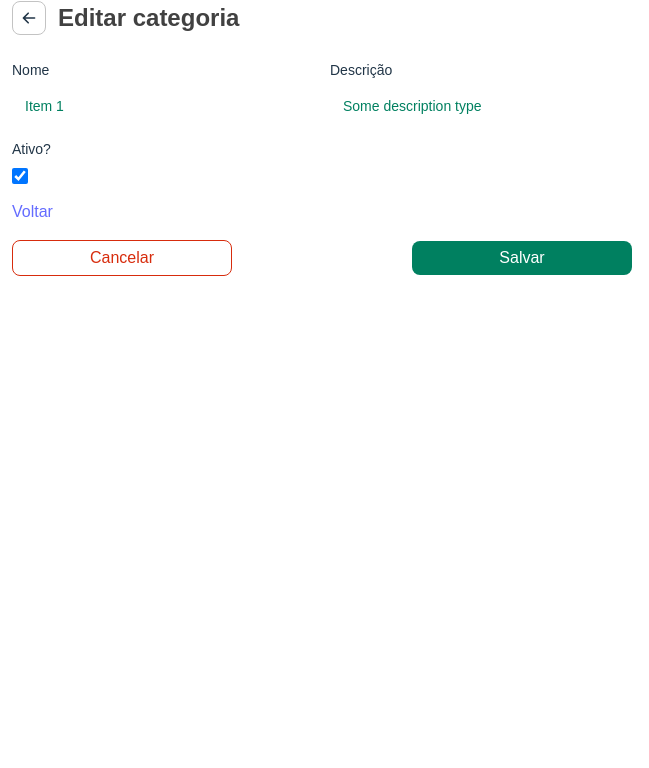
Test: EditCategoryPage › it should not include the category id via the route parameter
Step 1. Replace the text in the field labelled "Nome" with "Update name" → (163, 106), box top-left (12, 89), bottom-right (314, 123)
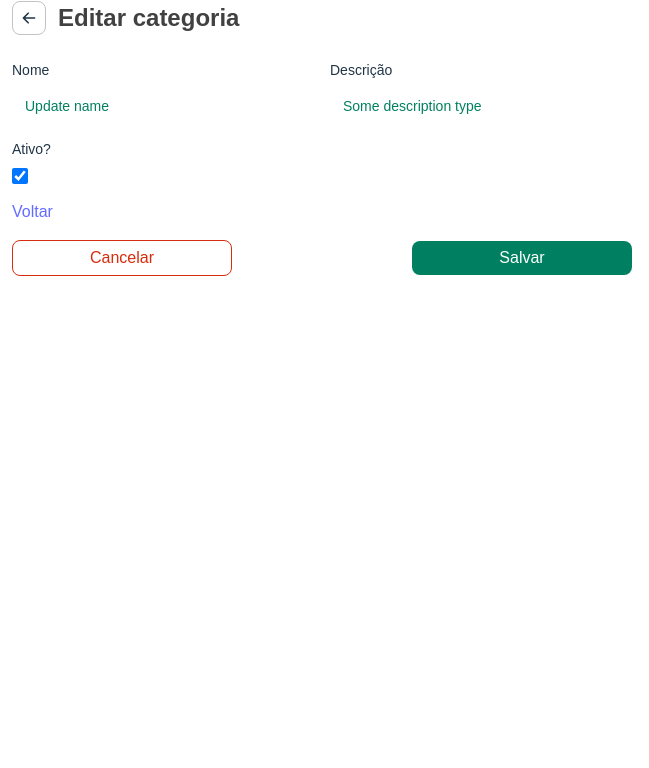
Step 2. Replace the text in the field labelled "Descrição" with "Update desc" → (481, 106), box top-left (330, 89), bottom-right (632, 123)
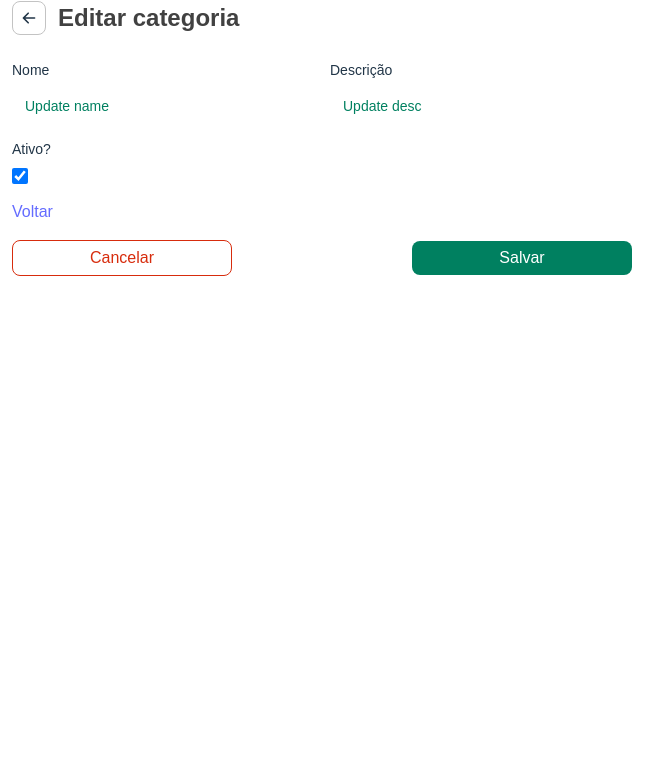
Step 3. Click the checkbox labelled "Ativo?" → (20, 176), box top-left (12, 168), bottom-right (28, 184)
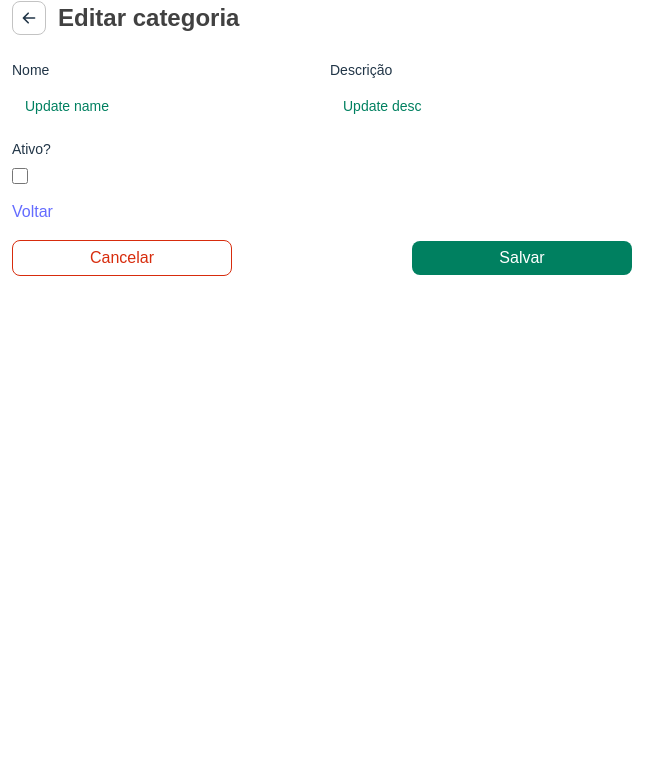
Step 4. Click the button "Salvar" → (522, 258), box top-left (412, 241), bottom-right (632, 275)
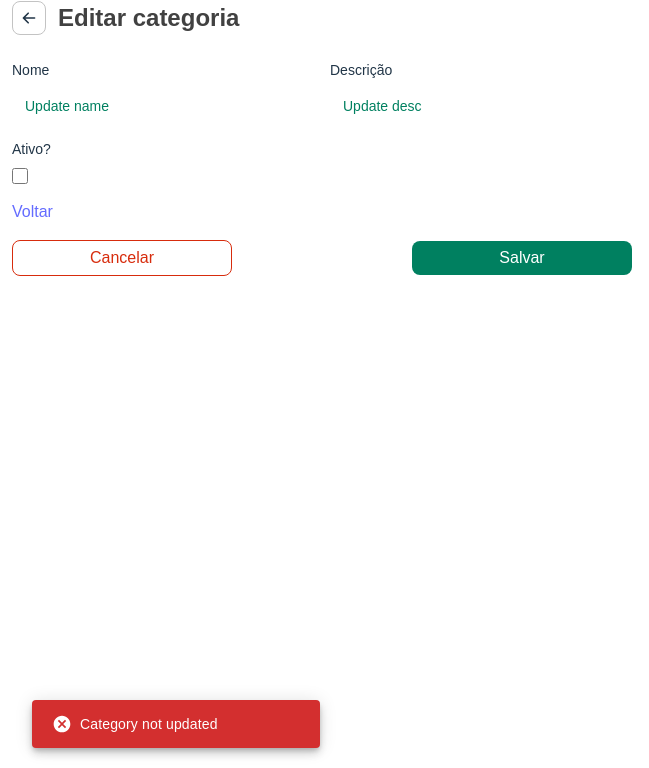
Expected: the text "Category not updated" is shown, top-left (52, 714), bottom-right (218, 734)
